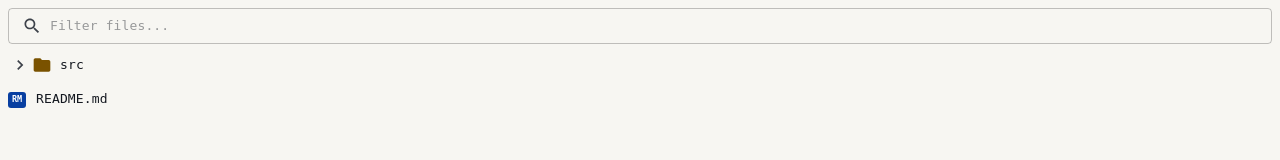
FileTree › file tree filter › should hide tree and show results when typing in filter
Check: the text "src" is shown, box [60,57,84,72]
Check: the text "README.md" is shown, box [36,91,108,106]
Note: Type in filter
Type "Button" into the field labelled "Filter files". click: [661, 26]
box: [50,8,1272,44]
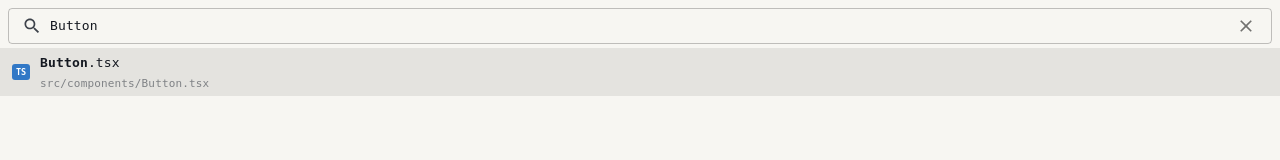
Check: the text "src/components/Button.tsx" is shown, box [40,77,209,90]
